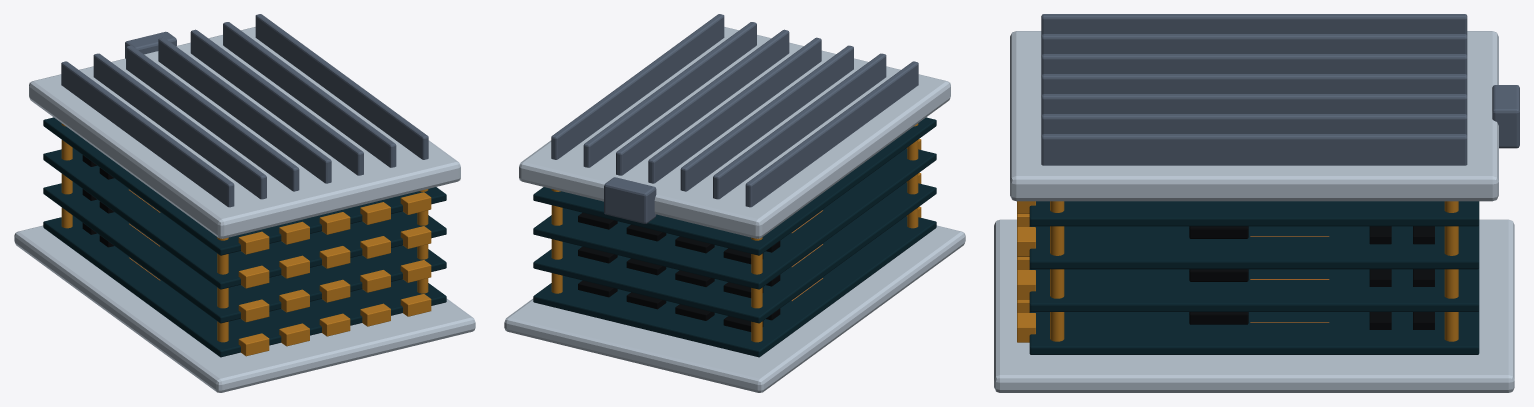
File: Component_onboard_computer.glb
3 views of the same model, side by side, from view 1: azimuth 30°, elevation 25°; view 2: azimuth 150°, elevation 25°; view 3: azimuth 270°, elevation 25° (orthographic). The views are drawn at different scales.
Visible parts, largest first — view 1: OBC_cover, OBC_base, OBC_circuit_card.001, OBC_circuit_card.002, OBC_circuit_card, OBC_heat_fin.003, OBC_heat_fin, OBC_heat_fin.001, OBC_heat_fin.002, OBC_heat_fin.005, OBC_heat_fin.006, OBC_heat_fin.004 (+22 smaller); view 2: OBC_cover, OBC_base, OBC_circuit_card.001, OBC_circuit_card.002, OBC_circuit_card, OBC_circuit_card.003, OBC_heat_fin.003, OBC_heat_fin, OBC_heat_fin.001, OBC_heat_fin.002, OBC_heat_fin.005, OBC_heat_fin.006 (+11 smaller); view 3: OBC_base, OBC_cover, OBC_circuit_card.002, OBC_circuit_card, OBC_circuit_card.001, OBC_heat_fin.006, OBC_circuit_card.003, OBC_heat_fin, OBC_heat_fin.001, OBC_heat_fin.002, OBC_heat_fin.003, OBC_heat_fin.004 (+8 smaller).
Boxes of the visible parts, x1,y1,x2,y2 form: OBC_cover: [29, 27, 460, 238]; OBC_base: [14, 225, 475, 392]; OBC_circuit_card.001: [43, 182, 446, 323]; OBC_circuit_card.002: [43, 148, 446, 289]; OBC_circuit_card: [43, 215, 446, 357]; OBC_heat_fin.003: [158, 37, 331, 183]; OBC_heat_fin: [61, 61, 234, 207]; OBC_heat_fin.001: [93, 53, 266, 199]; OBC_heat_fin.002: [126, 45, 299, 191]; OBC_heat_fin.005: [223, 22, 396, 167]; OBC_heat_fin.006: [255, 14, 428, 159]; OBC_heat_fin.004: [190, 29, 363, 175]; OBC_cover: [519, 27, 950, 238]; OBC_base: [504, 225, 965, 392]; OBC_circuit_card.001: [533, 182, 936, 323]; OBC_circuit_card.002: [533, 148, 936, 289]; OBC_circuit_card: [533, 216, 936, 357]; OBC_circuit_card.003: [533, 117, 936, 255]; OBC_heat_fin.003: [648, 37, 821, 183]; OBC_heat_fin: [745, 61, 918, 207]; OBC_heat_fin.001: [713, 53, 886, 199]; OBC_heat_fin.002: [680, 45, 853, 191]; OBC_heat_fin.005: [583, 22, 756, 167]; OBC_heat_fin.006: [551, 14, 724, 159]; OBC_base: [994, 219, 1514, 392]; OBC_cover: [1010, 31, 1498, 201]; OBC_circuit_card.002: [1029, 225, 1479, 269]; OBC_circuit_card: [1029, 311, 1479, 354]; OBC_circuit_card.001: [1029, 268, 1479, 311]; OBC_heat_fin.006: [1041, 134, 1467, 165]; OBC_circuit_card.003: [1029, 201, 1479, 226]; OBC_heat_fin: [1041, 14, 1467, 35]; OBC_heat_fin.001: [1041, 34, 1467, 55]; OBC_heat_fin.002: [1041, 54, 1467, 75]; OBC_heat_fin.003: [1041, 74, 1467, 95]; OBC_heat_fin.004: [1041, 94, 1467, 115].
Bounding box in the file's own units: 0.48 × 0.336 × 0.6665.
